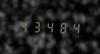eight: (54, 20, 65, 34)
four: (18, 18, 29, 33), (42, 19, 53, 34), (66, 20, 77, 34)
three: (30, 19, 41, 33)
